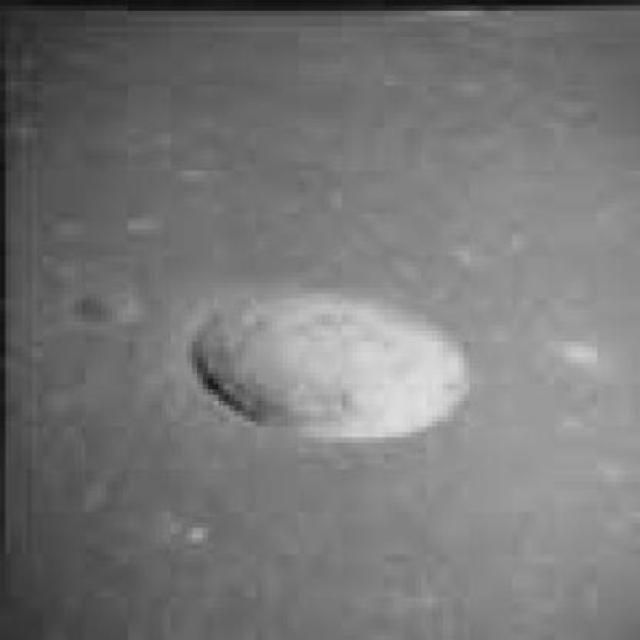crater: (192, 289, 470, 440)
